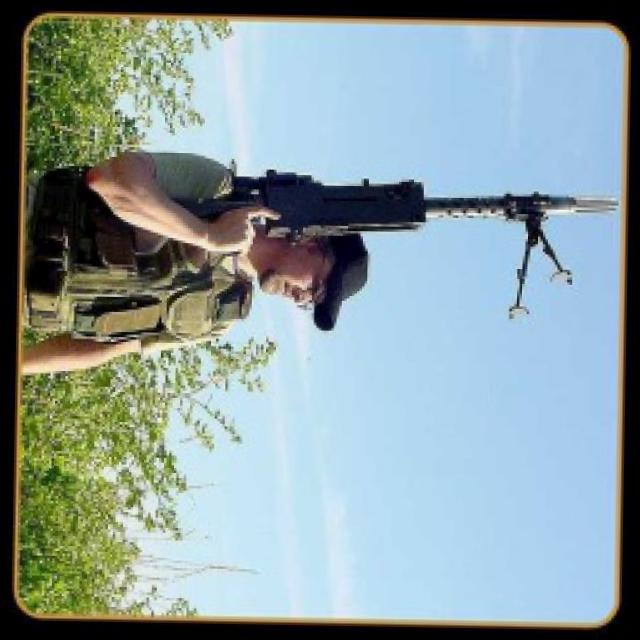long weapon: (179, 162, 612, 283)
